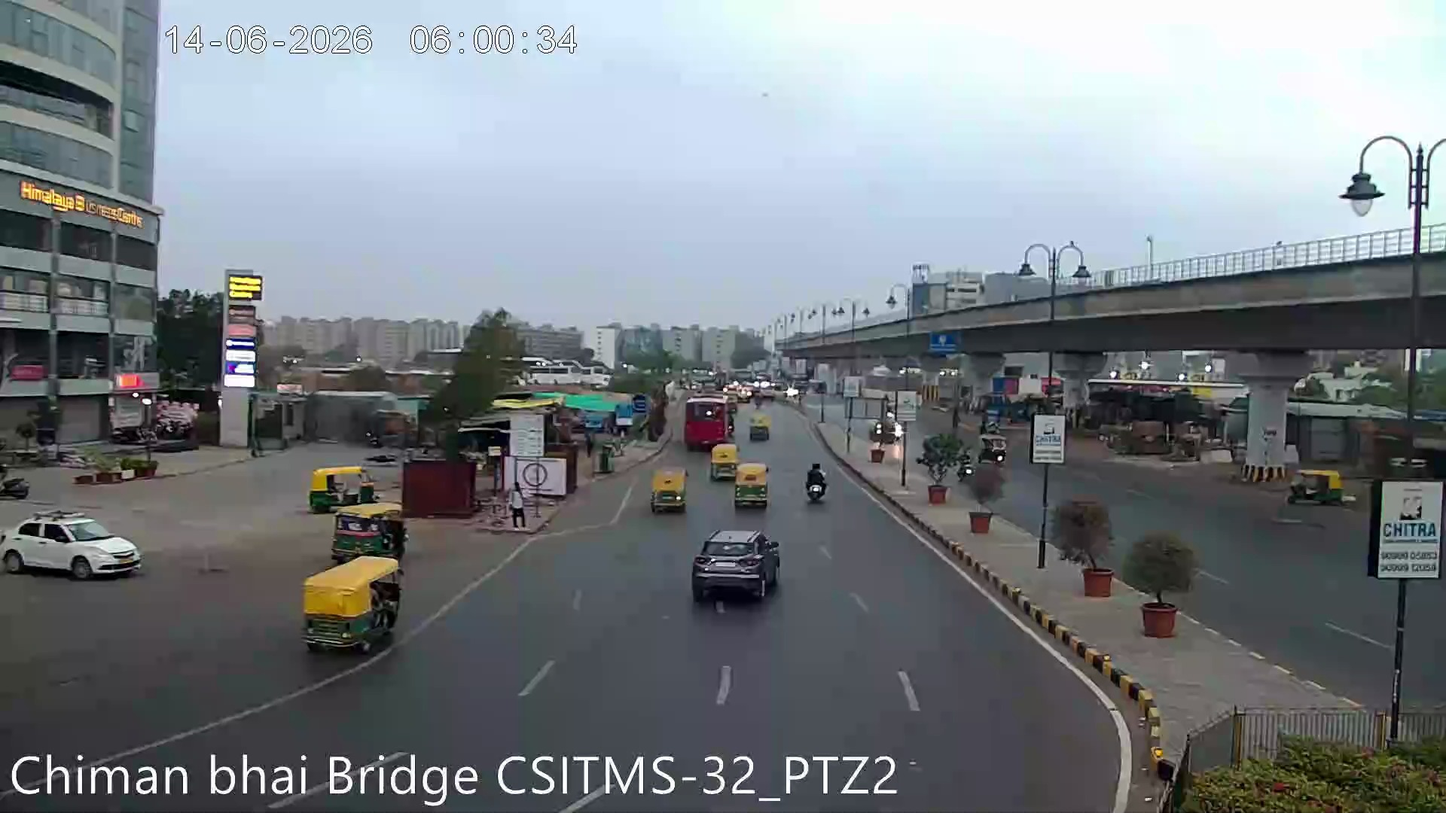auto_rickshaw: (298, 556, 404, 655), (305, 458, 374, 514), (1288, 463, 1347, 507), (731, 460, 771, 509), (649, 465, 688, 514), (708, 441, 742, 480), (711, 453, 745, 480), (747, 412, 773, 442)
bus: (682, 383, 733, 443)
car: (0, 502, 145, 583), (691, 522, 781, 605)
pedestrian: (507, 485, 528, 533)
two_wheeler: (802, 459, 830, 507)
